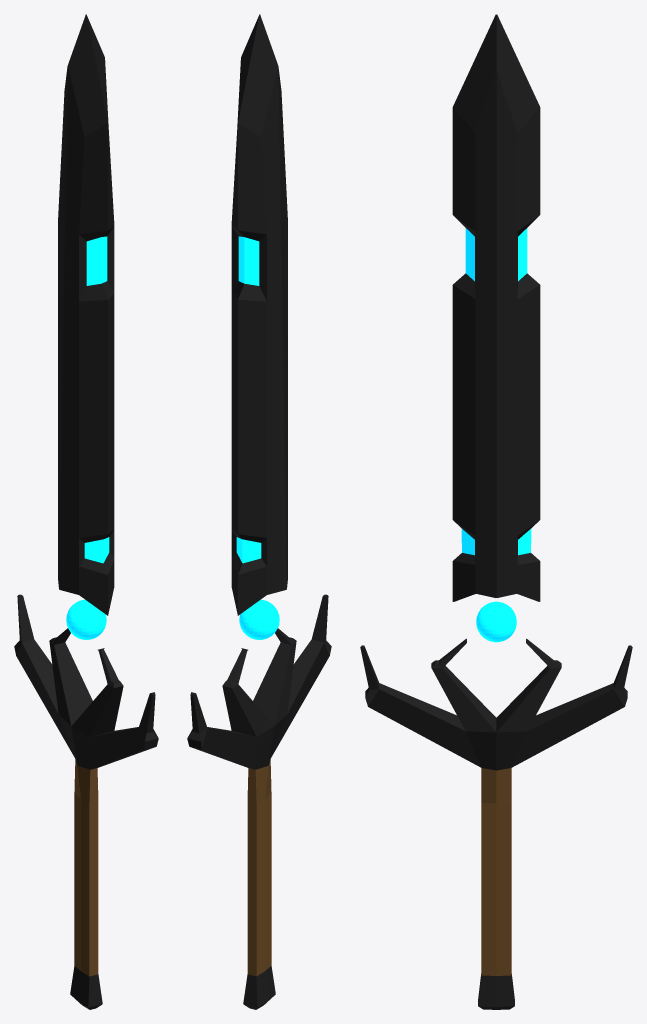
File: sci-fi-sword.glb
3 renders of one model, left to right at view 1: azimuth 30°, elevation 25°; view 2: azimuth 150°, elevation 25°; view 3: azimuth 270°, elevation 25°, orthographic.
Visible parts, largest first — view 1: Sword; view 2: Sword; view 3: Sword.
Boxes of the visible parts, x1,y1,x2,y2 form: Sword: (14,14,158,1009); Sword: (187,14,331,1009); Sword: (360,14,632,1009).
Size of the model in its own units: 0.1517 by 2.66 by 0.6607.
